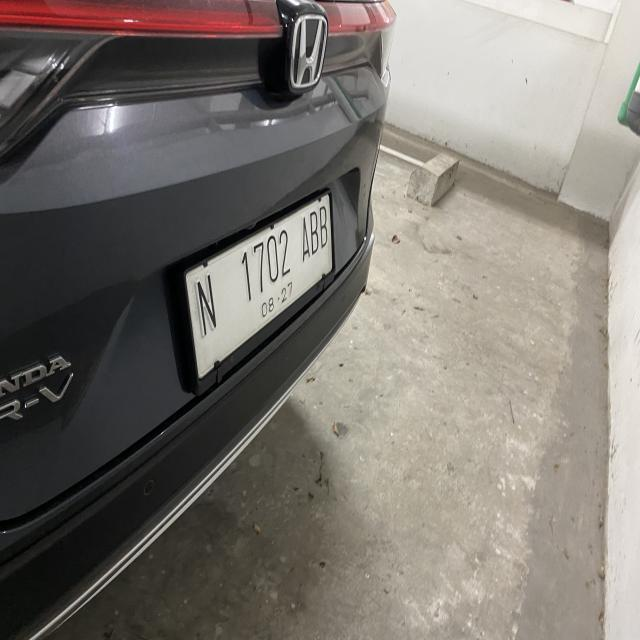0: (268, 233, 280, 285)
1: (238, 250, 252, 304)
2: (280, 229, 292, 278)
7: (252, 242, 266, 296)
A: (300, 216, 310, 264)
B: (309, 212, 319, 258), (320, 204, 329, 248)
N: (195, 276, 222, 342)
